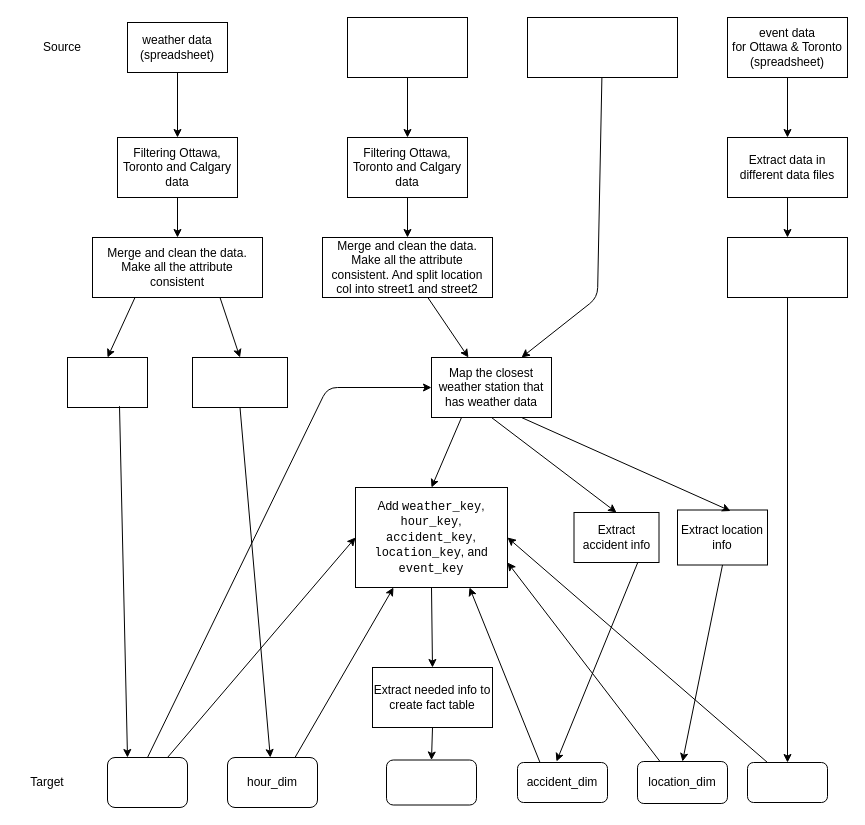
The diagram is 865 pixels wide and 825 high, and some of its shapes have lost their labels. The shapes that lost their labels are listed below. From the top down, each one's centre as x and y in pixels, then its label:
At (407,47): "collision data (spreadsheet)".
At (602,47): "station reference table (spreadsheet)".
At (787,267): "Merge and clean the data. Make all attribute consistent".
At (107,382): "Extract weather info".
At (240,382): "Extract time".
At (147,782): "weather_dim".
At (431,782): "accident_fact".
At (787,782): "event_dim".
